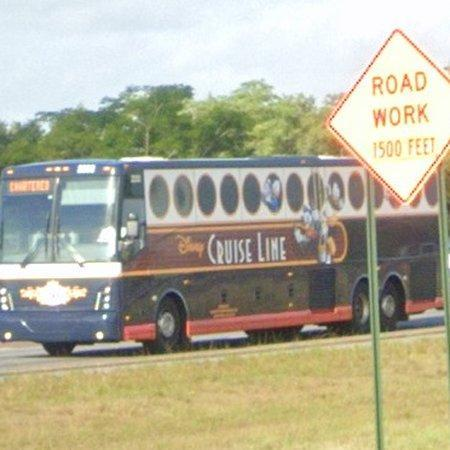buses: (378, 184, 443, 328)
